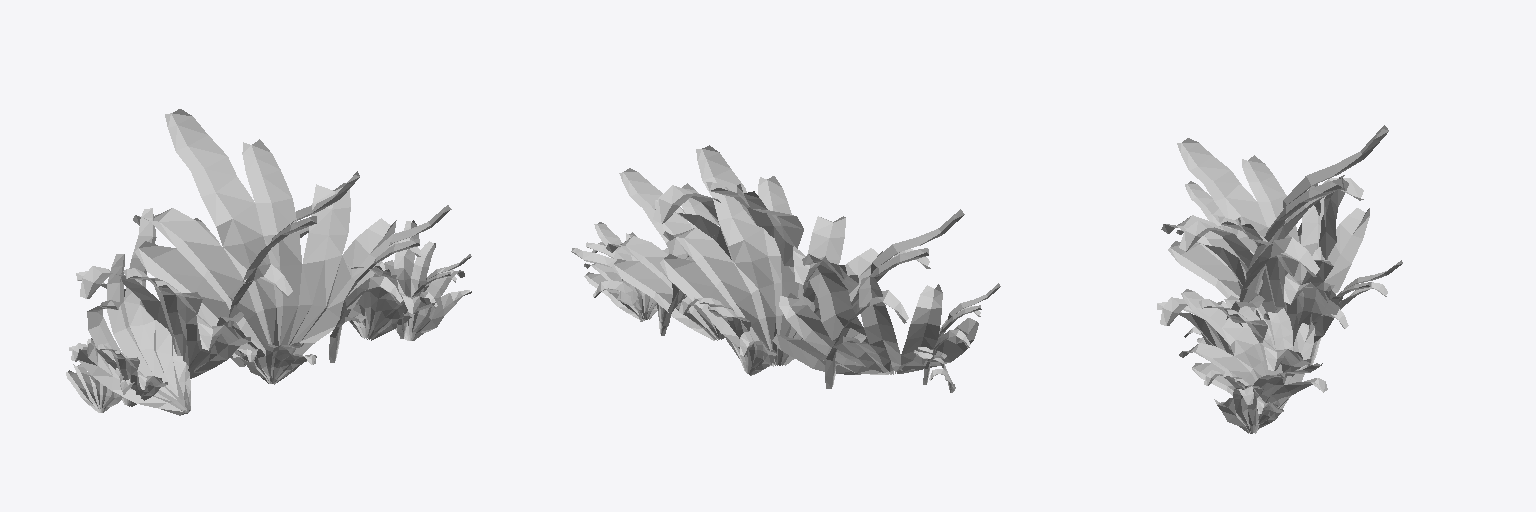
Rendered from arbusto hierba 2.obj.
3 renders of one model, left to right at view 1: azimuth 30°, elevation 25°; view 2: azimuth 150°, elevation 25°; view 3: azimuth 270°, elevation 25°, orthographic.
Parts seen in each view (by area): view 1: Plane.219_Plane.232, Plane.228_Plane.241, Plane.221_Plane.234, Plane.222_Plane.235, Plane.225_Plane.238, Plane.224_Plane.237, Plane.220_Plane.233, Plane.229_Plane.242, Plane.226_Plane.239, Plane.227_Plane.240, Plane.223_Plane.236; view 2: Plane.225_Plane.238, Plane.228_Plane.241, Plane.220_Plane.233, Plane.219_Plane.232, Plane.221_Plane.234, Plane.230_Plane.243, Plane.223_Plane.236, Plane.222_Plane.235, Plane.226_Plane.239; view 3: Plane.221_Plane.234, Plane.225_Plane.238, Plane.224_Plane.237, Plane.219_Plane.232, Plane.220_Plane.233, Plane.222_Plane.235, Plane.228_Plane.241, Plane.230_Plane.243, Plane.223_Plane.236, Plane.226_Plane.239.
Boxes of the visible parts, x1,y1,x2,y2 form: Plane.219_Plane.232: [133, 109, 396, 355]; Plane.228_Plane.241: [77, 208, 190, 415]; Plane.221_Plane.234: [76, 266, 250, 378]; Plane.222_Plane.235: [380, 220, 471, 340]; Plane.225_Plane.238: [217, 171, 359, 366]; Plane.224_Plane.237: [347, 264, 435, 340]; Plane.220_Plane.233: [329, 205, 451, 362]; Plane.229_Plane.242: [232, 342, 316, 384]; Plane.226_Plane.239: [69, 343, 167, 406]; Plane.227_Plane.240: [66, 338, 134, 412]; Plane.223_Plane.236: [397, 254, 471, 338]; Plane.225_Plane.238: [660, 145, 882, 366]; Plane.228_Plane.241: [772, 254, 978, 374]; Plane.220_Plane.233: [606, 168, 725, 340]; Plane.219_Plane.232: [653, 182, 858, 318]; Plane.221_Plane.234: [825, 209, 964, 388]; Plane.230_Plane.243: [679, 296, 776, 375]; Plane.223_Plane.236: [584, 222, 668, 320]; Plane.222_Plane.235: [571, 242, 642, 321]; Plane.226_Plane.239: [923, 283, 1000, 384]; Plane.221_Plane.234: [1161, 138, 1369, 298]; Plane.225_Plane.238: [1179, 216, 1340, 349]; Plane.224_Plane.237: [1179, 289, 1314, 408]; Plane.219_Plane.232: [1226, 125, 1388, 350]; Plane.220_Plane.233: [1157, 297, 1310, 376]; Plane.222_Plane.235: [1214, 363, 1327, 433]; Plane.228_Plane.241: [1297, 175, 1348, 298]; Plane.230_Plane.243: [1307, 260, 1402, 366]; Plane.223_Plane.236: [1204, 370, 1283, 428]; Plane.226_Plane.239: [1176, 181, 1233, 243].
Size of the model in its own units: 4.79 by 2.73 by 2.63.